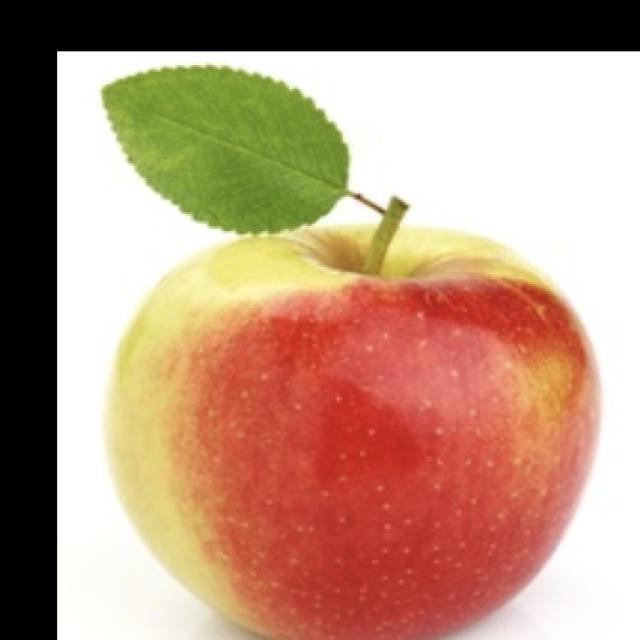Apple: (103, 198, 602, 639)
